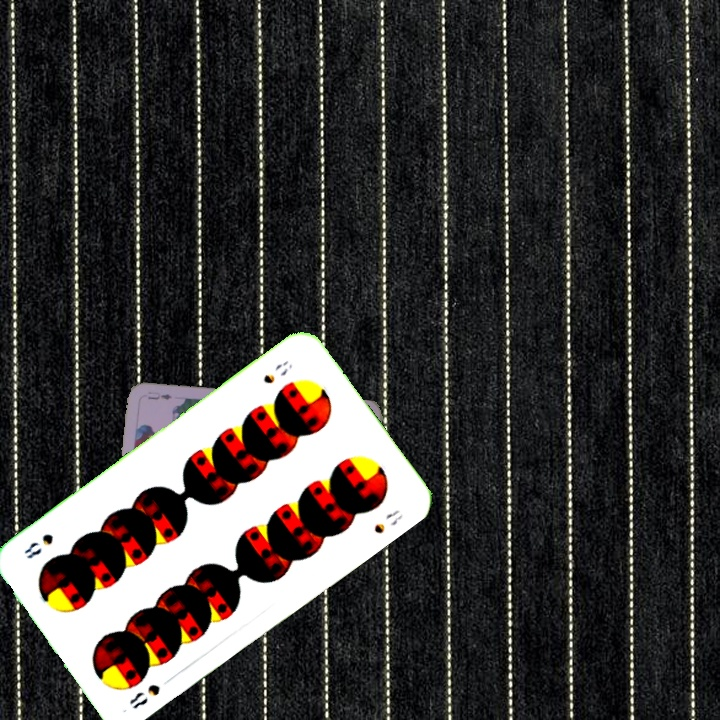S8: (125, 680, 163, 712), (259, 357, 295, 387)
